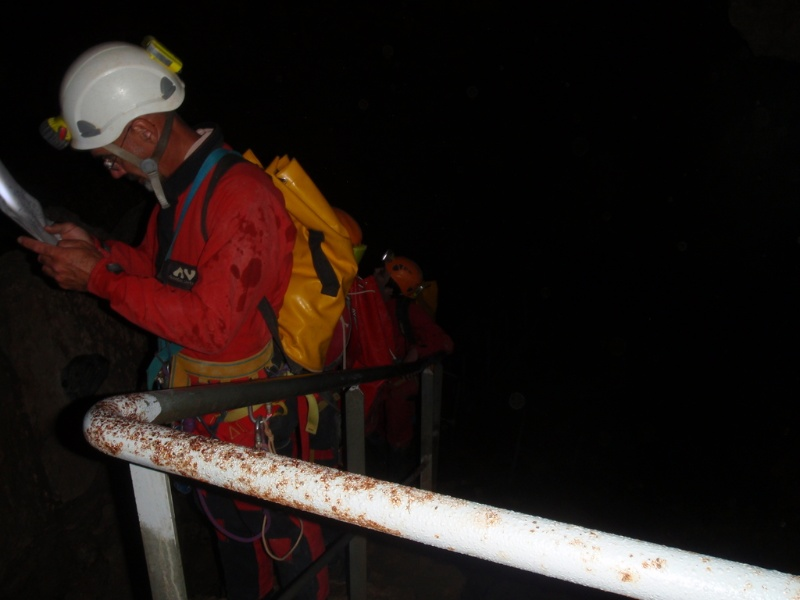Baret: (58, 42, 188, 151)
